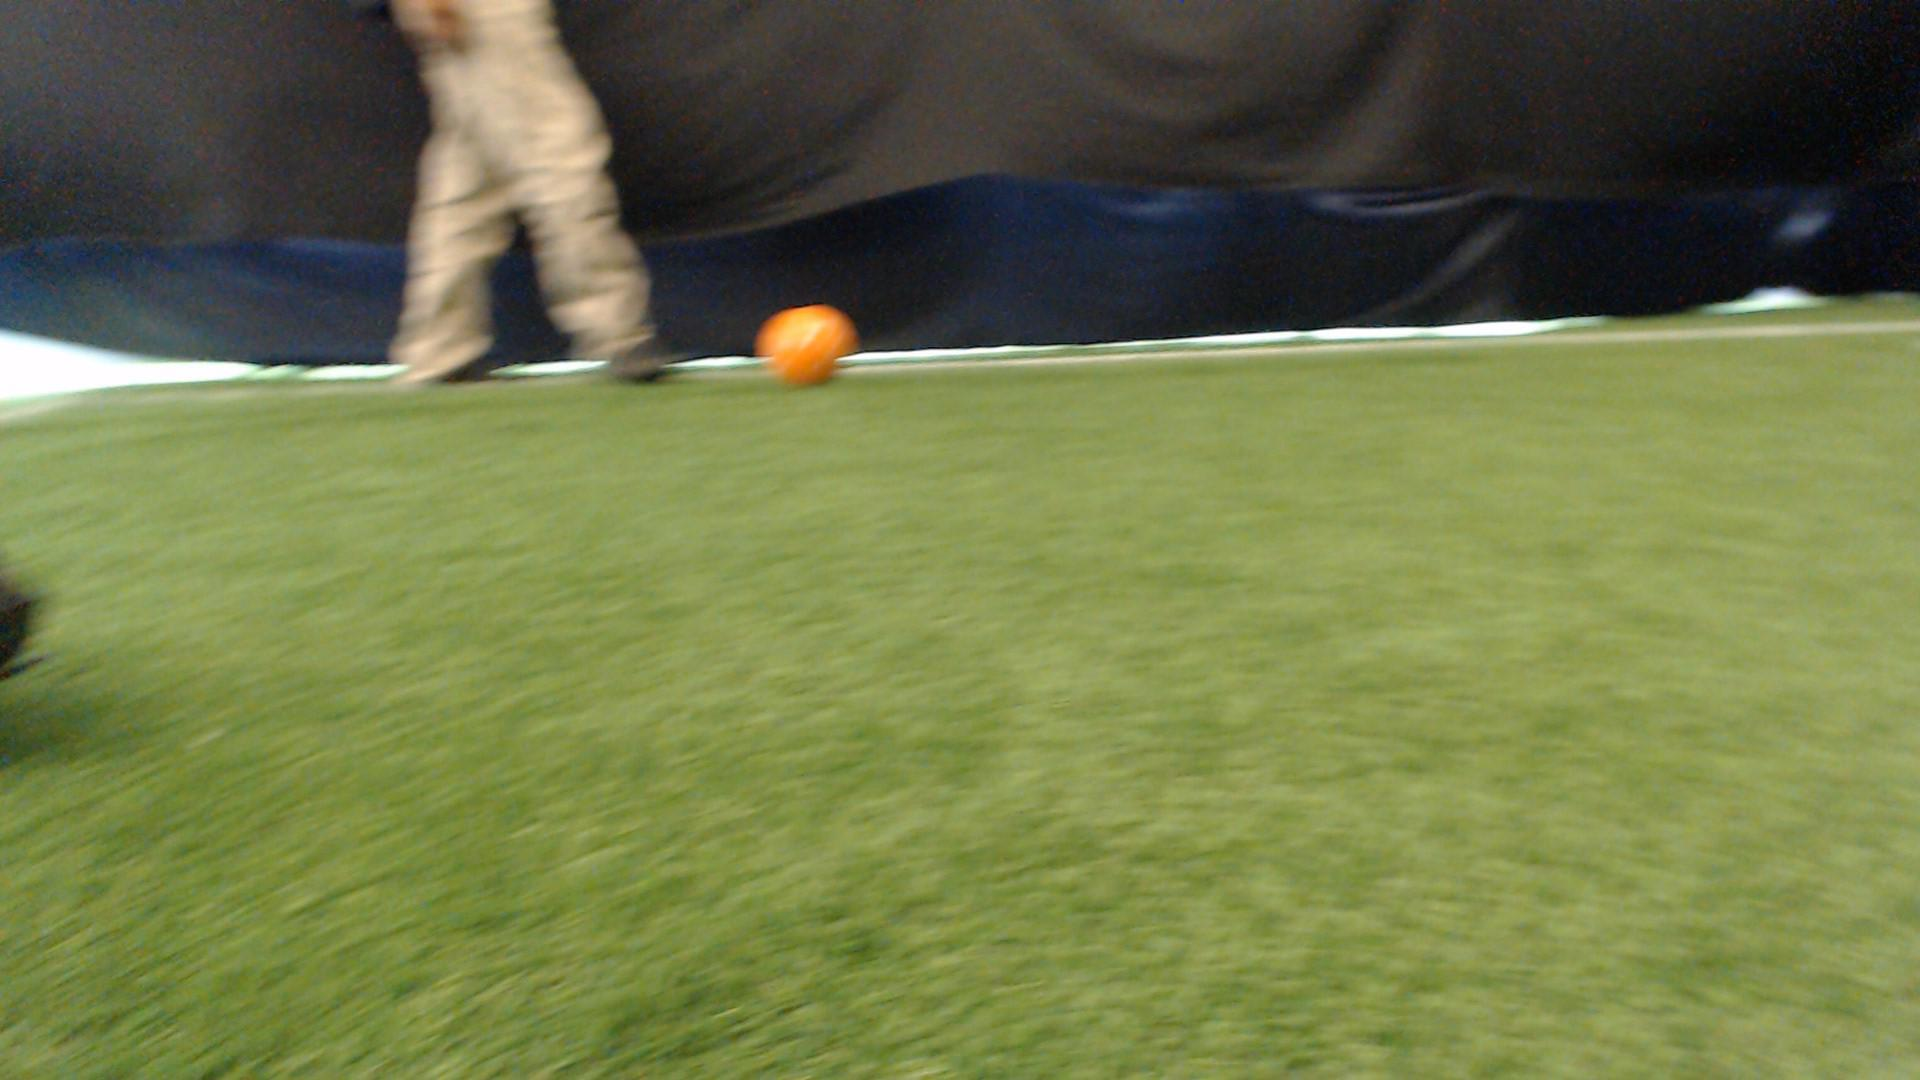bola: (748, 295, 876, 396)
